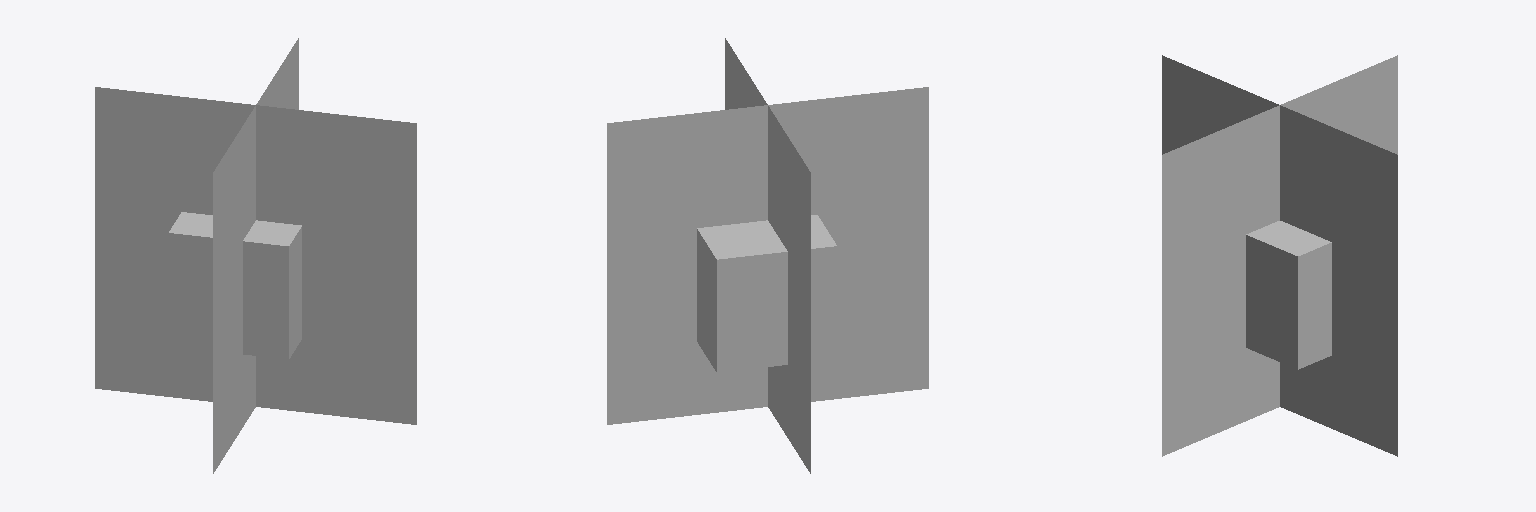
Rendered from bulbine_stem_1.obj.
The picture shows the model from 3 angles: view 1: azimuth 30°, elevation 25°; view 2: azimuth 150°, elevation 25°; view 3: azimuth 270°, elevation 25°; orthographic projection.
Parts seen in each view (by area): view 1: stem_2_Cube.001; view 2: stem_2_Cube.001; view 3: stem_2_Cube.001.
Boxes of the visible parts, x1=… form: stem_2_Cube.001: x1=95, y1=38, x2=416, y2=473; stem_2_Cube.001: x1=607, y1=38, x2=928, y2=473; stem_2_Cube.001: x1=1162, y1=55, x2=1397, y2=456.
Bounding box in the file's own units: 0.7071 × 1 × 0.7071.